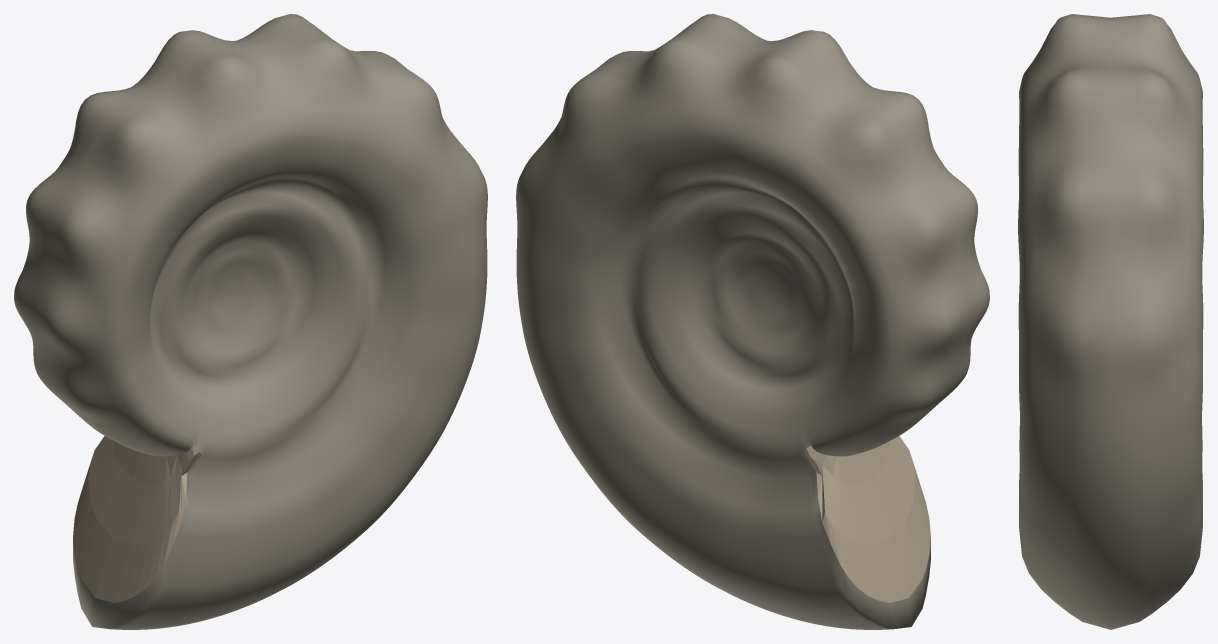
3 renders of one model, left to right at view 1: azimuth 30°, elevation 25°; view 2: azimuth 150°, elevation 25°; view 3: azimuth 270°, elevation 25°, orthographic. The views are drawn at different scales.
Visible parts, largest first — view 1: mineral-filled-nodose-planispiral-shell; view 2: mineral-filled-nodose-planispiral-shell; view 3: mineral-filled-nodose-planispiral-shell.
Part boxes in pixels (x1,y1,x2,y2): mineral-filled-nodose-planispiral-shell: (14,14,487,629); mineral-filled-nodose-planispiral-shell: (516,14,989,629); mineral-filled-nodose-planispiral-shell: (1018,14,1203,629).
Bounding box in the file's own units: 0.115 × 0.14 × 0.04.
